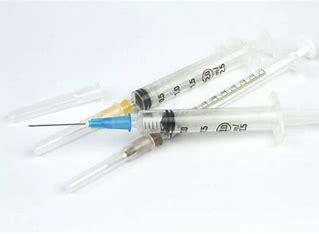Syringe: (11, 89, 314, 143)
